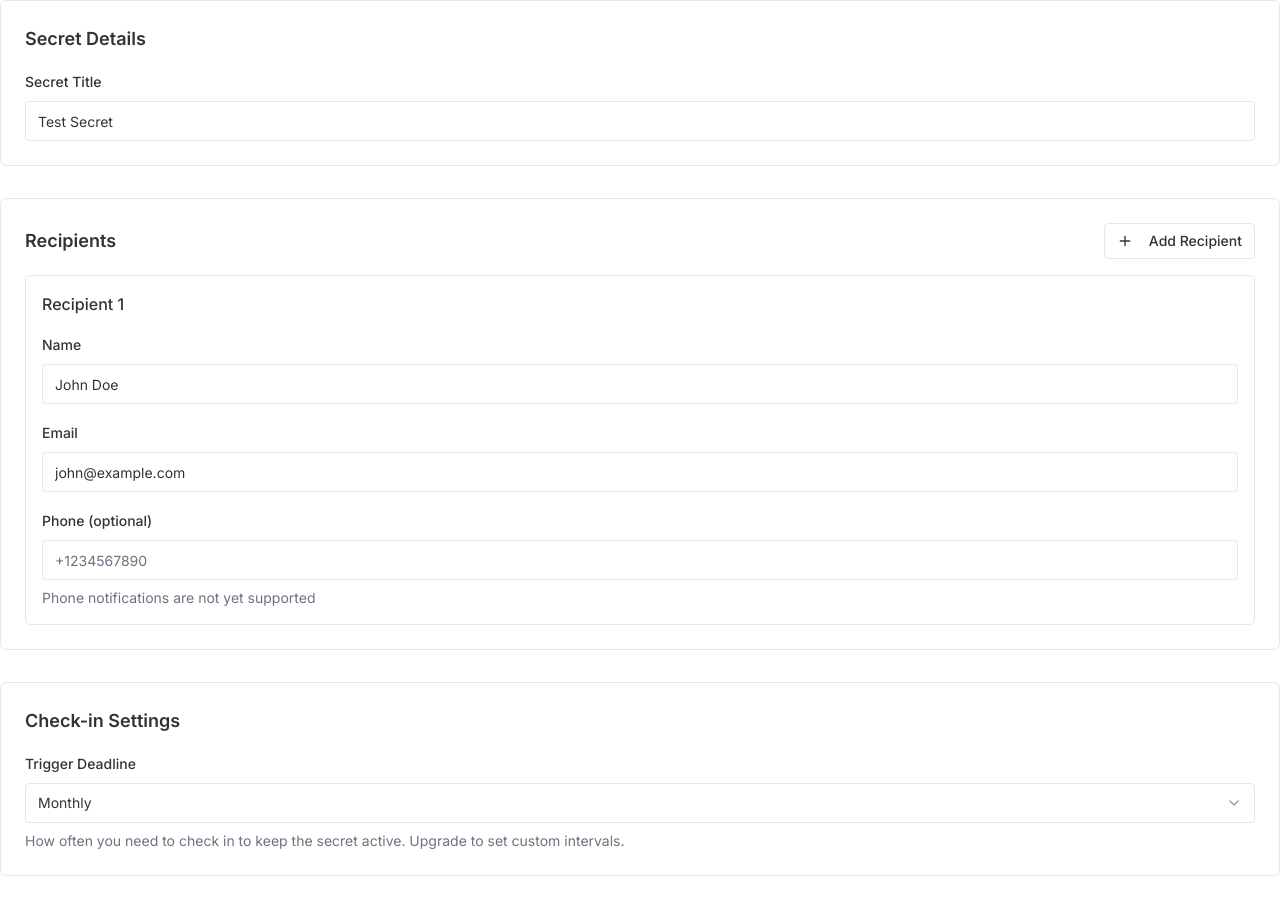
EditSecretForm - Multiple Recipients › should allow adding a new recipient
The width and height of the screenshot is (1280, 900).
Click the button "Add Recipient" at (1179, 241), box x1=1104 y1=223 x2=1255 y2=259
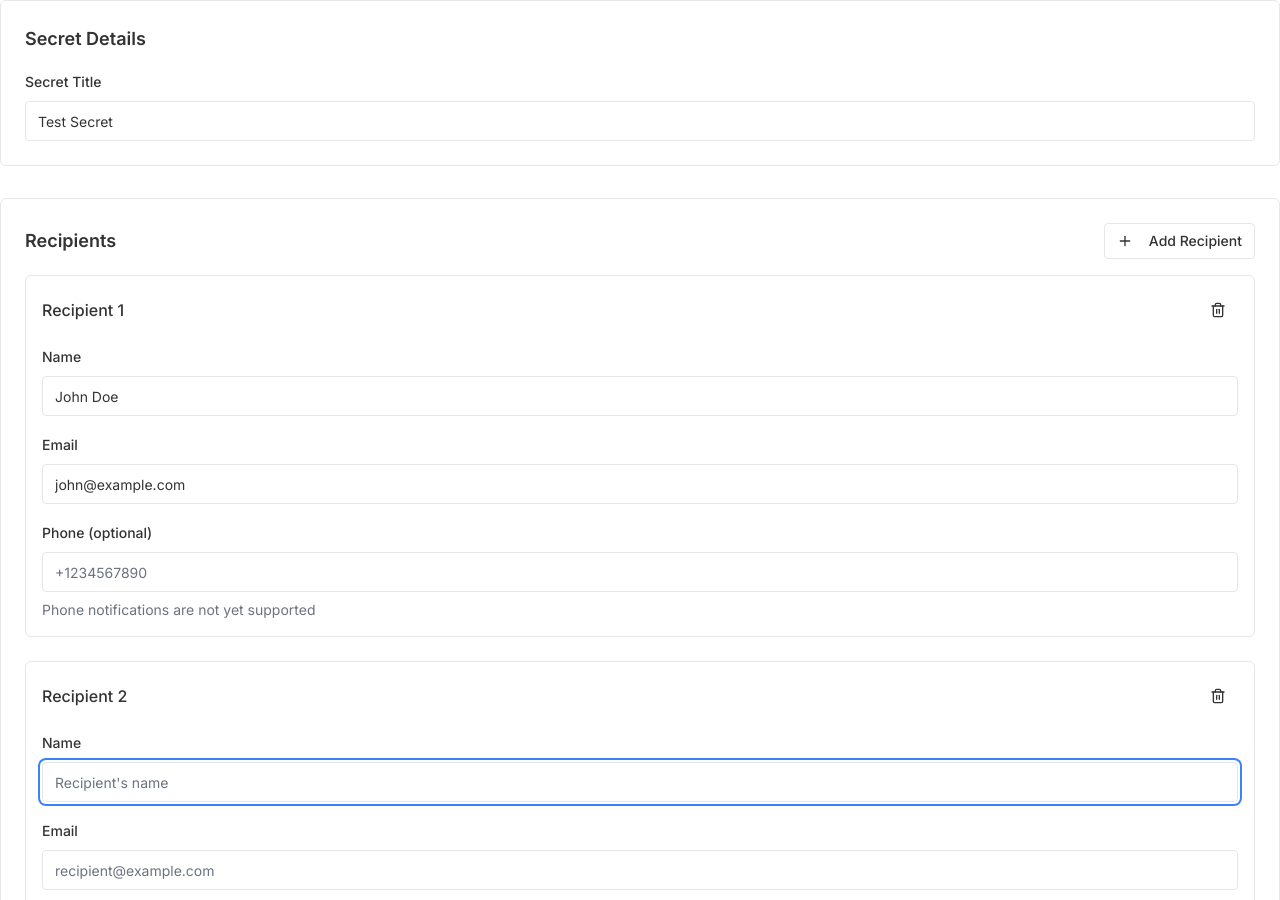
Expected: the heading "Recipient 2" is shown, x1=42 y1=684 x2=127 y2=708
